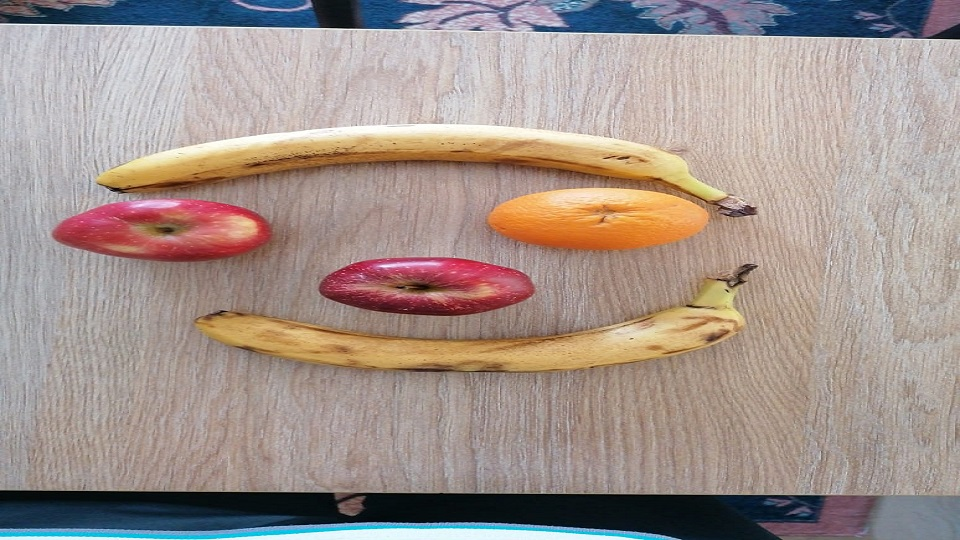elma: (52, 198, 272, 262), (318, 256, 537, 317)
muz: (93, 123, 752, 212), (193, 274, 748, 374)
